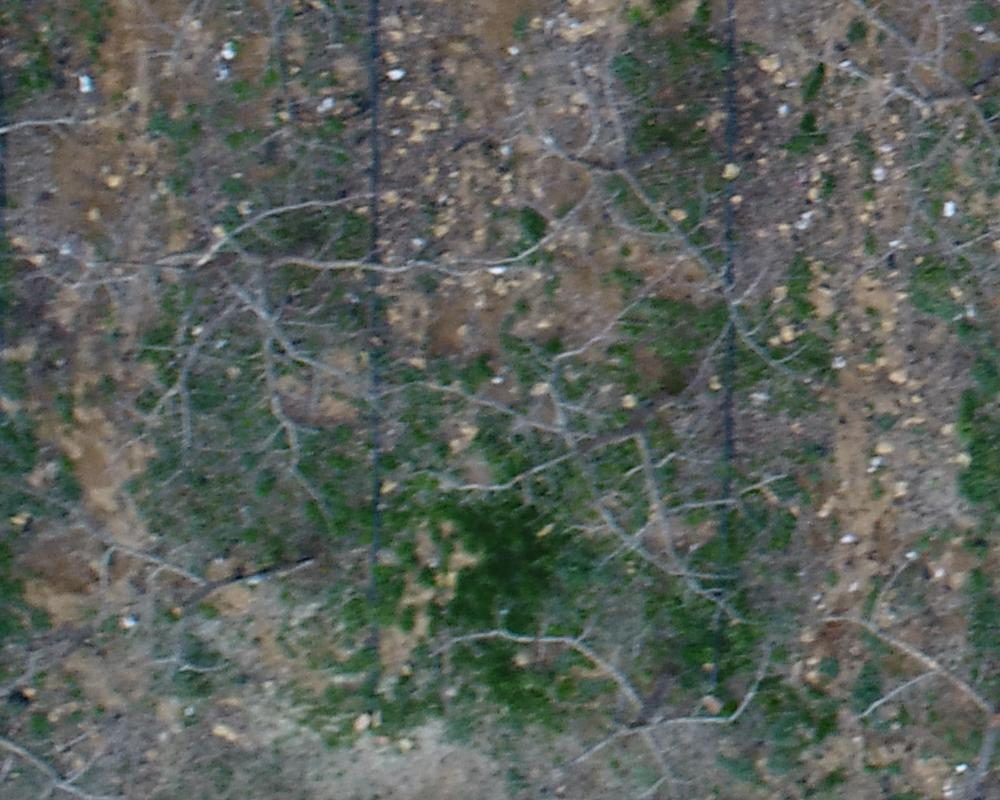apple: (10, 168, 475, 544), (437, 30, 828, 406), (411, 270, 773, 629), (417, 604, 810, 790), (801, 574, 990, 790)
